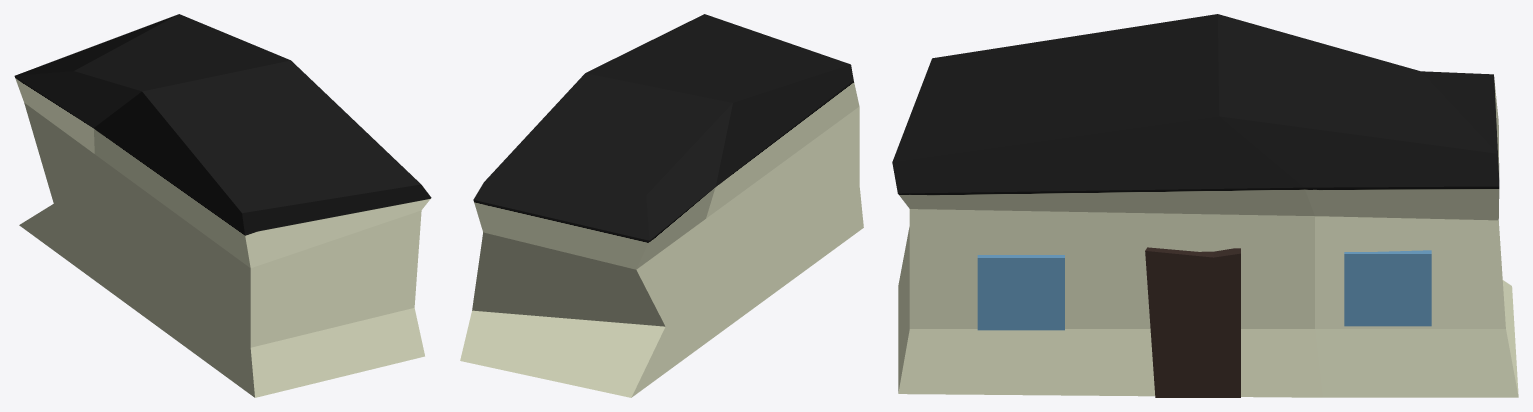
File: casa_02.fbx
The picture shows the model from 3 angles, left to right: view 1: azimuth 30°, elevation 25°; view 2: azimuth 150°, elevation 25°; view 3: azimuth 270°, elevation 25°; orthographic projection. The views are drawn at different scales.
Parts seen in each view (by area): view 1: Cube; view 2: Cube; view 3: Cube, Cube.001, Cube.002, Cube.003.
Boxes of the visible parts, x1=… form: Cube: x1=14, y1=14, x2=431, y2=397; Cube: x1=460, y1=14, x2=863, y2=397; Cube: x1=892, y1=14, x2=1518, y2=397; Cube.001: x1=1145, y1=247, x2=1240, y2=397; Cube.002: x1=977, y1=255, x2=1064, y2=330; Cube.003: x1=1344, y1=250, x2=1431, y2=326.
Size of the model in its own units: 229 by 252 by 509.
4 materials, 1 textured.
